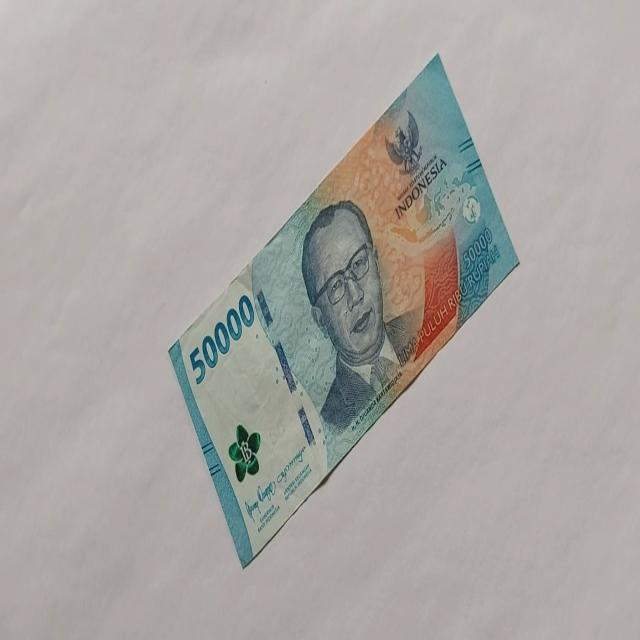lima puluh ribu rupiah: (168, 51, 520, 568), (300, 197, 406, 434), (188, 292, 254, 386)
